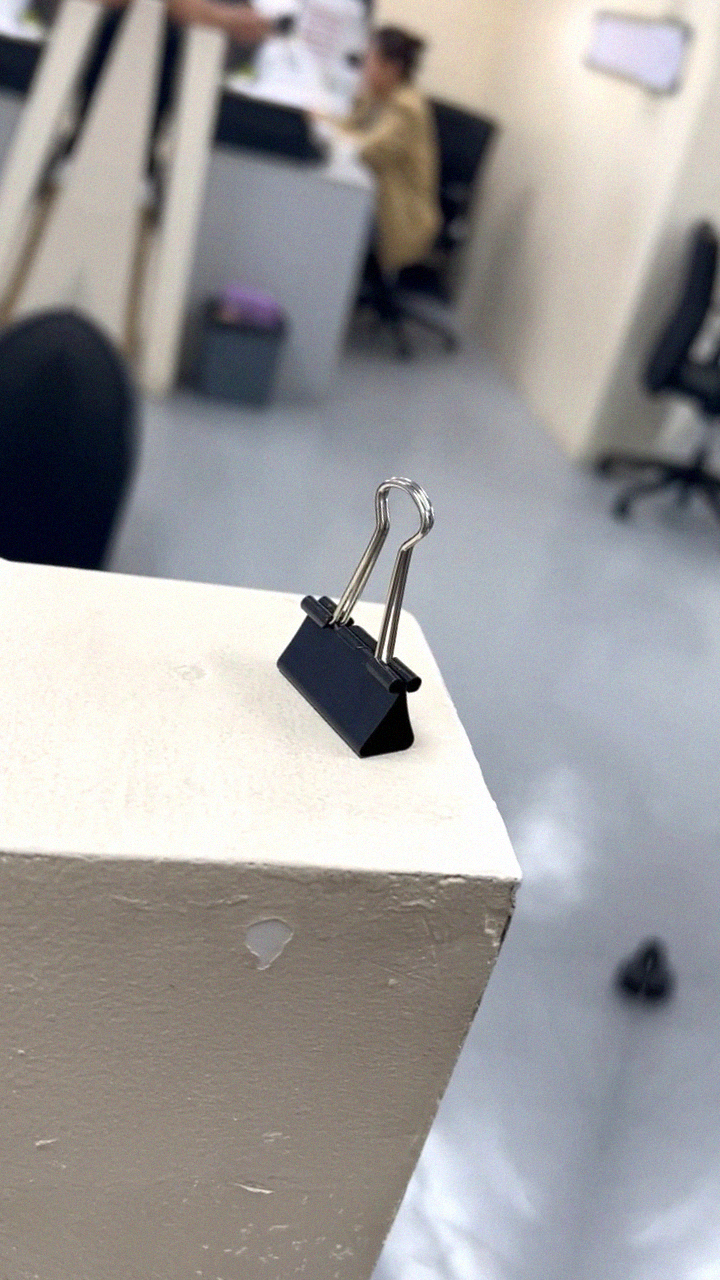kep_giay: (246, 453, 483, 776)
